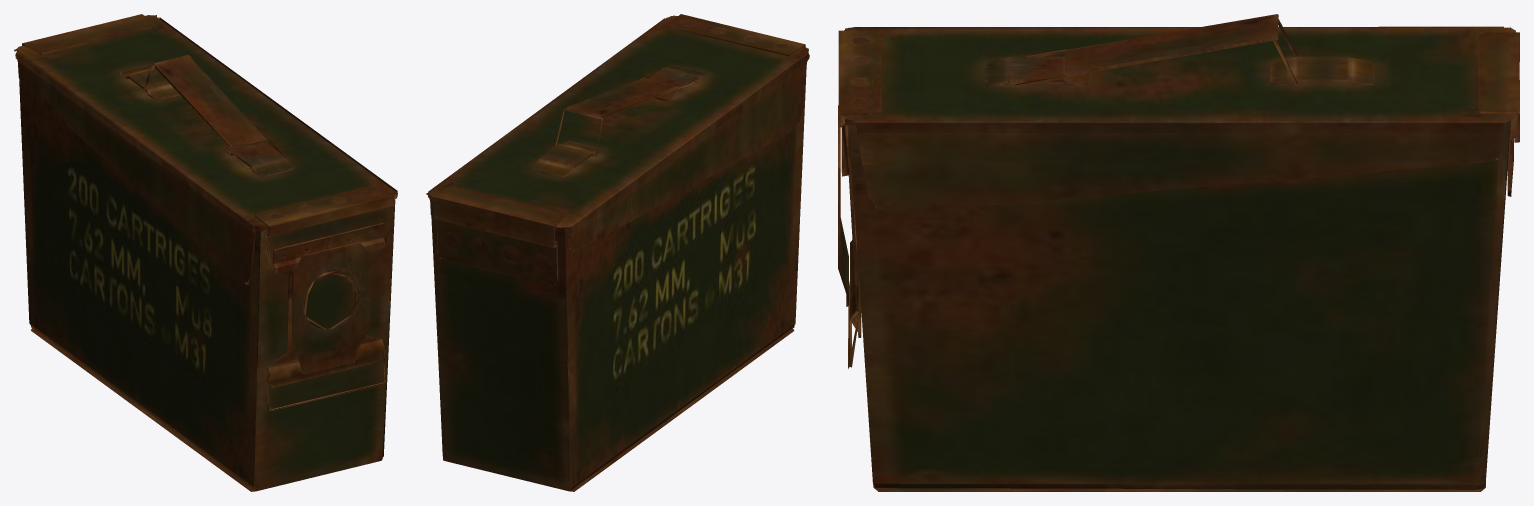
File: ammo_box.glb
3 views of the same model, side by side, from view 1: azimuth 30°, elevation 25°; view 2: azimuth 150°, elevation 25°; view 3: azimuth 270°, elevation 25° (orthographic). The views are drawn at different scales.
Parts seen in each view (by area): view 1: ammo_box; view 2: ammo_box; view 3: ammo_box.
Boxes of the visible parts, left/top/right/bottom form: ammo_box: left=14, top=14, right=397, bottom=491; ammo_box: left=426, top=14, right=809, bottom=491; ammo_box: left=838, top=14, right=1519, bottom=491.
Bounding box in the file's own units: 0.0865 × 0.1765 × 0.2577.
1 material, 1 textured.
